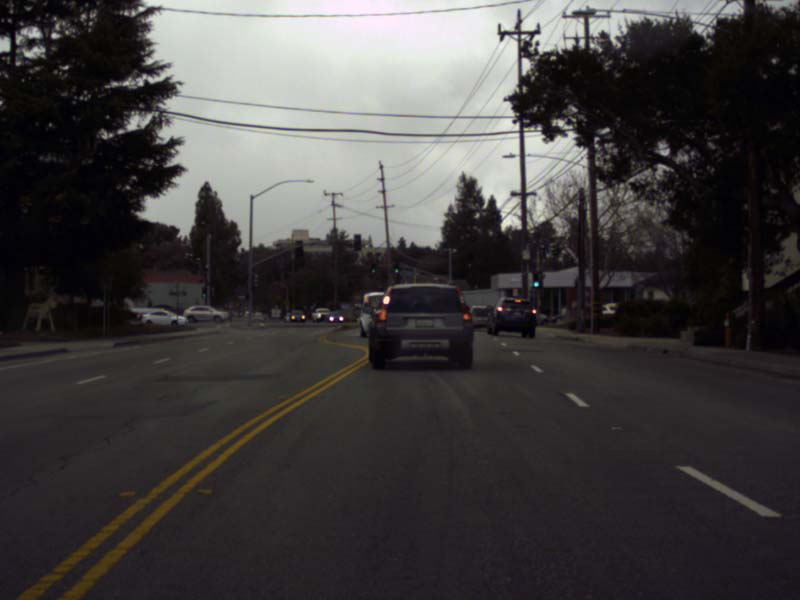Green: (532, 272, 539, 288), (201, 286, 206, 298), (370, 263, 375, 273), (394, 262, 398, 273)
